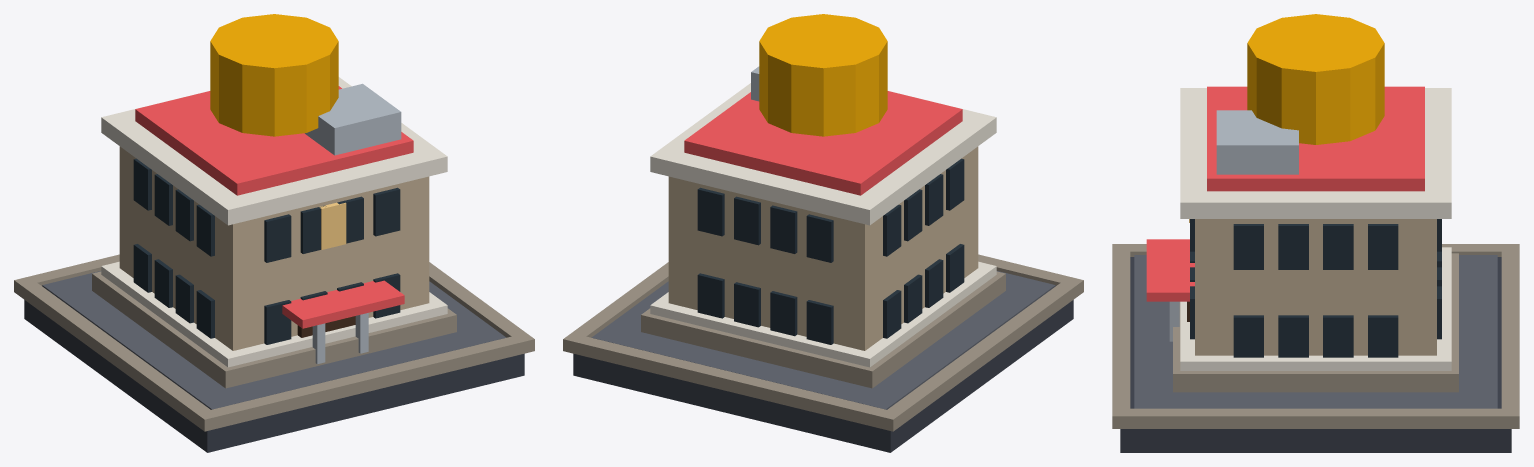
File: city.tax_office.glb
3 views of the same model, side by side, from view 1: azimuth 30°, elevation 25°; view 2: azimuth 150°, elevation 25°; view 3: azimuth 270°, elevation 25° (orthographic). The views are drawn at different scales.
Visible parts, largest first — view 1: city.tax_office; view 2: city.tax_office; view 3: city.tax_office.
Boxes of the visible parts, x1,y1,x2,y2 form: city.tax_office: (14, 14, 534, 452); city.tax_office: (563, 14, 1083, 452); city.tax_office: (1112, 14, 1519, 452).
Size of the model in its own units: 2.02 by 1.79 by 2.02.
